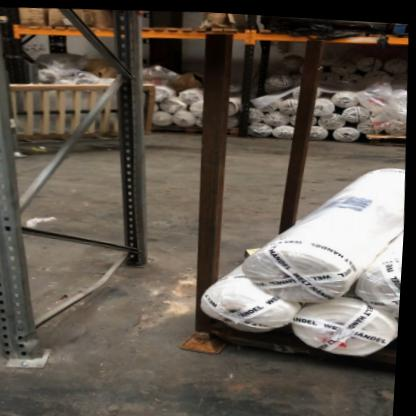vertical_damage: (1, 316, 67, 375)
